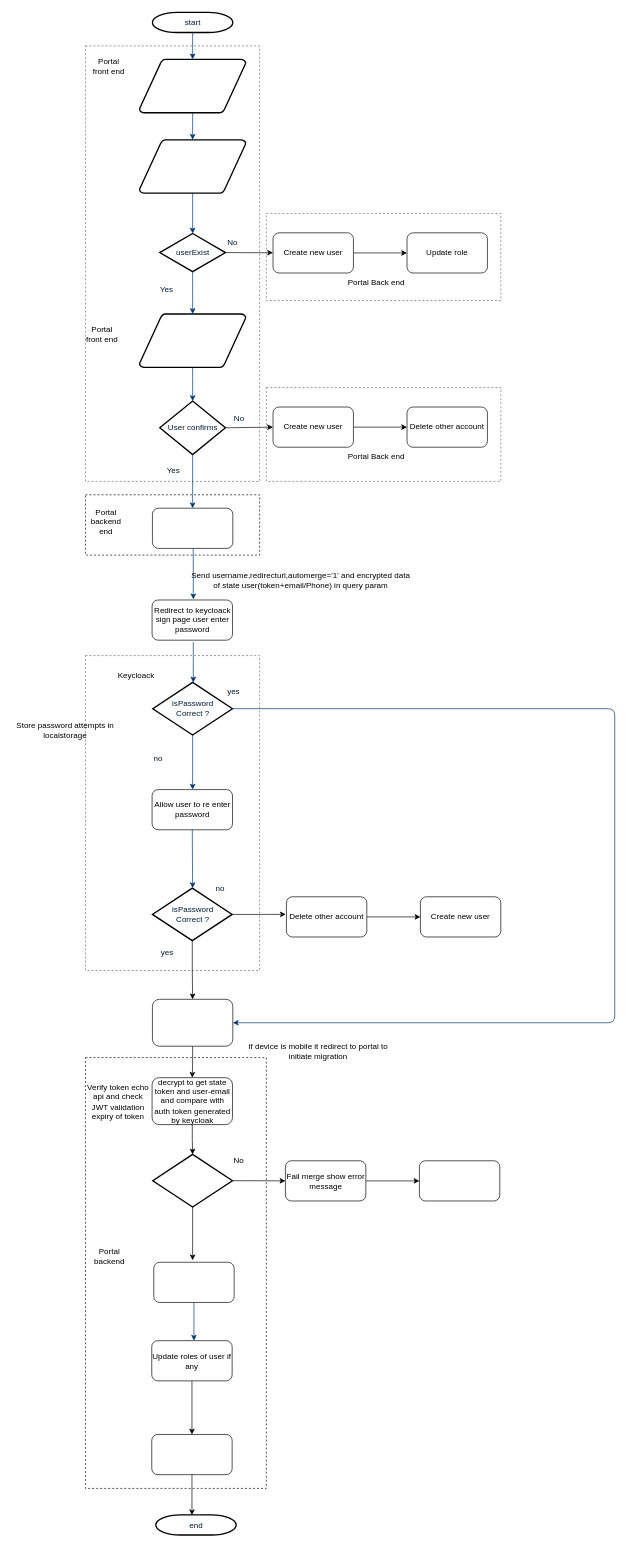
Some shapes in this 632 by 1547 pixel diagram are drawn without their labels. Here are the shapes that lost their labels. From the top down, the box of each, then its label:
(138, 58, 246, 113): User verified Otp for Email/Phone
(138, 139, 246, 194): Check for existing user
(138, 313, 246, 368): Confirmation for account migrate from user
(152, 508, 233, 548): Encrypt the user details with state token
(152, 999, 233, 1046): User is logged in as a non state user
(152, 1153, 233, 1207): isUserName Same ?
(419, 1160, 500, 1201): redirect to error screen
(153, 1262, 234, 1302): Initiate migration
(151, 1434, 232, 1475): create session
